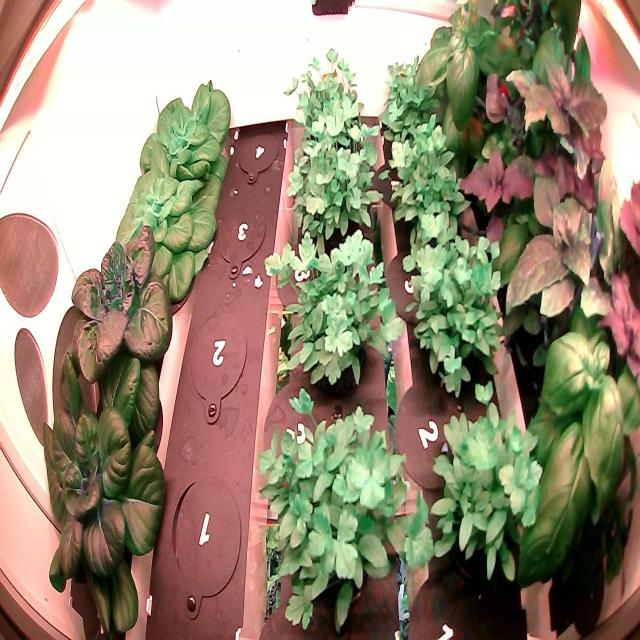empty_pod: (170, 472, 247, 621), (185, 298, 252, 429), (212, 190, 270, 282), (231, 114, 280, 194)
young: (32, 345, 171, 639), (51, 216, 178, 410), (104, 156, 223, 304), (126, 66, 232, 196)
